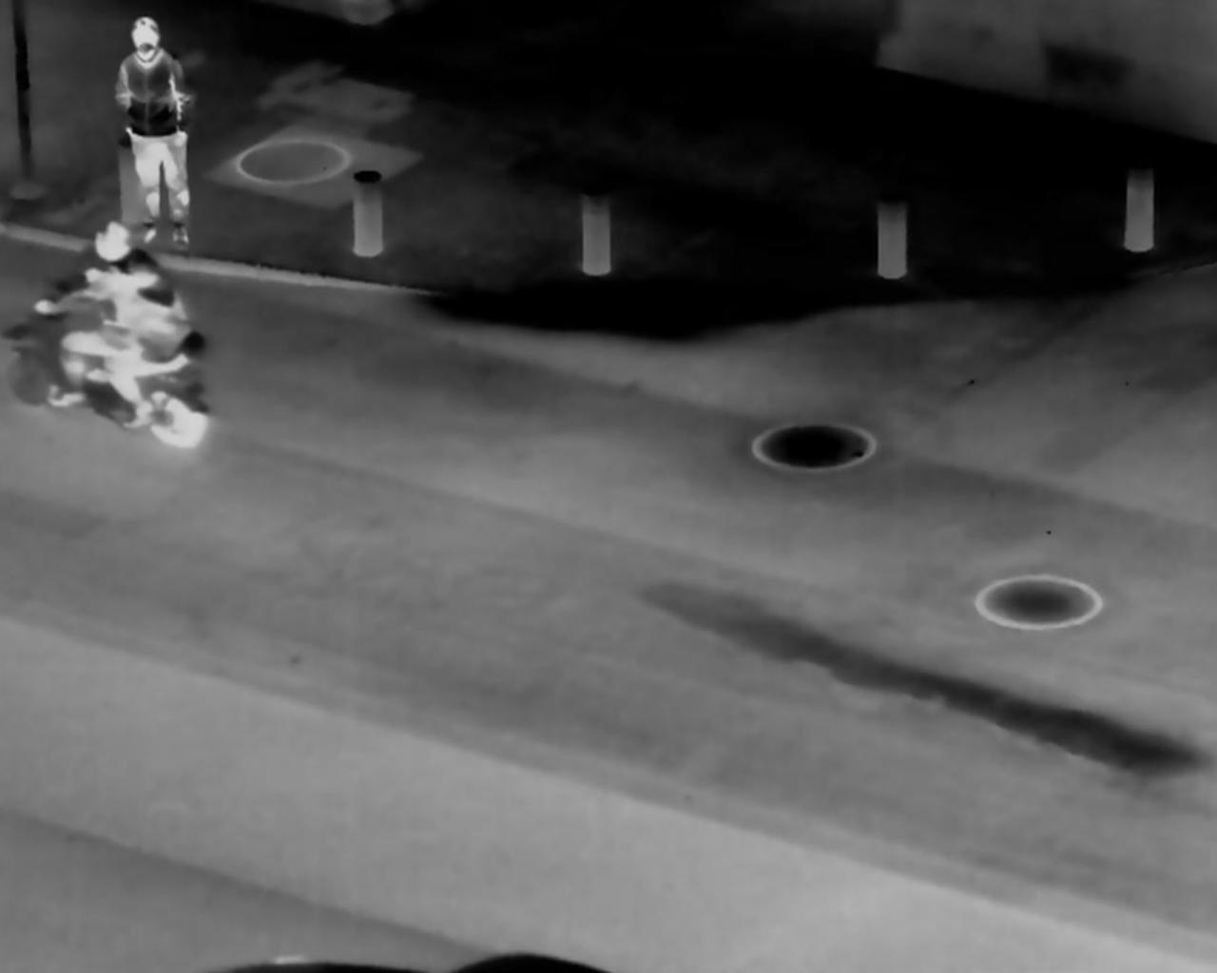person: (108, 19, 199, 238), (52, 226, 139, 396), (110, 251, 191, 428)
